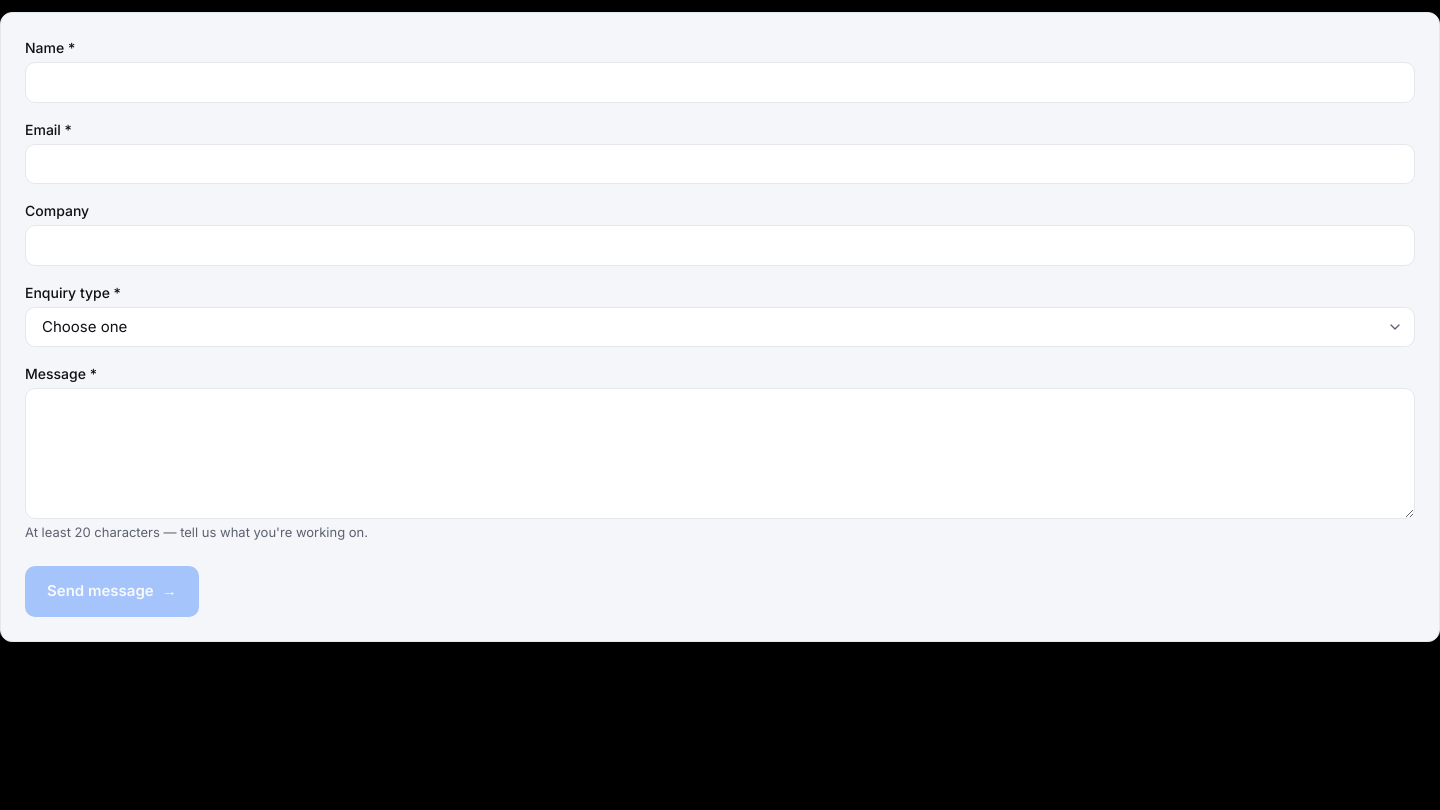
ContactForm › shows success state after submit
Type "Jane Doe" into the field labelled "Name *".
click(720, 82); type("Jane Doe")  # box [25,62,1415,102]
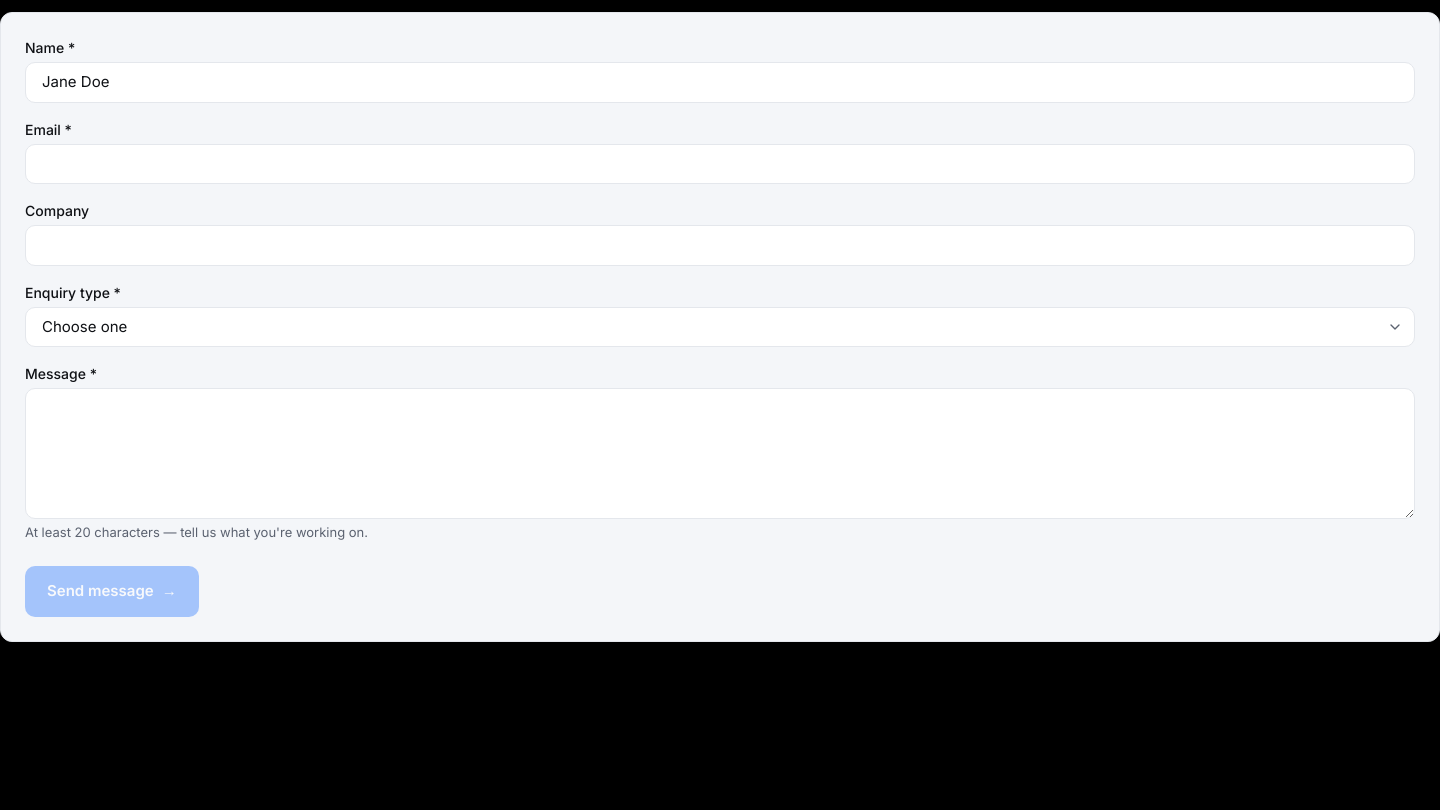
Type "jane@example.com" into the field labelled "Email *".
click(720, 164); type("jane@example.com")  # box [25,144,1415,184]
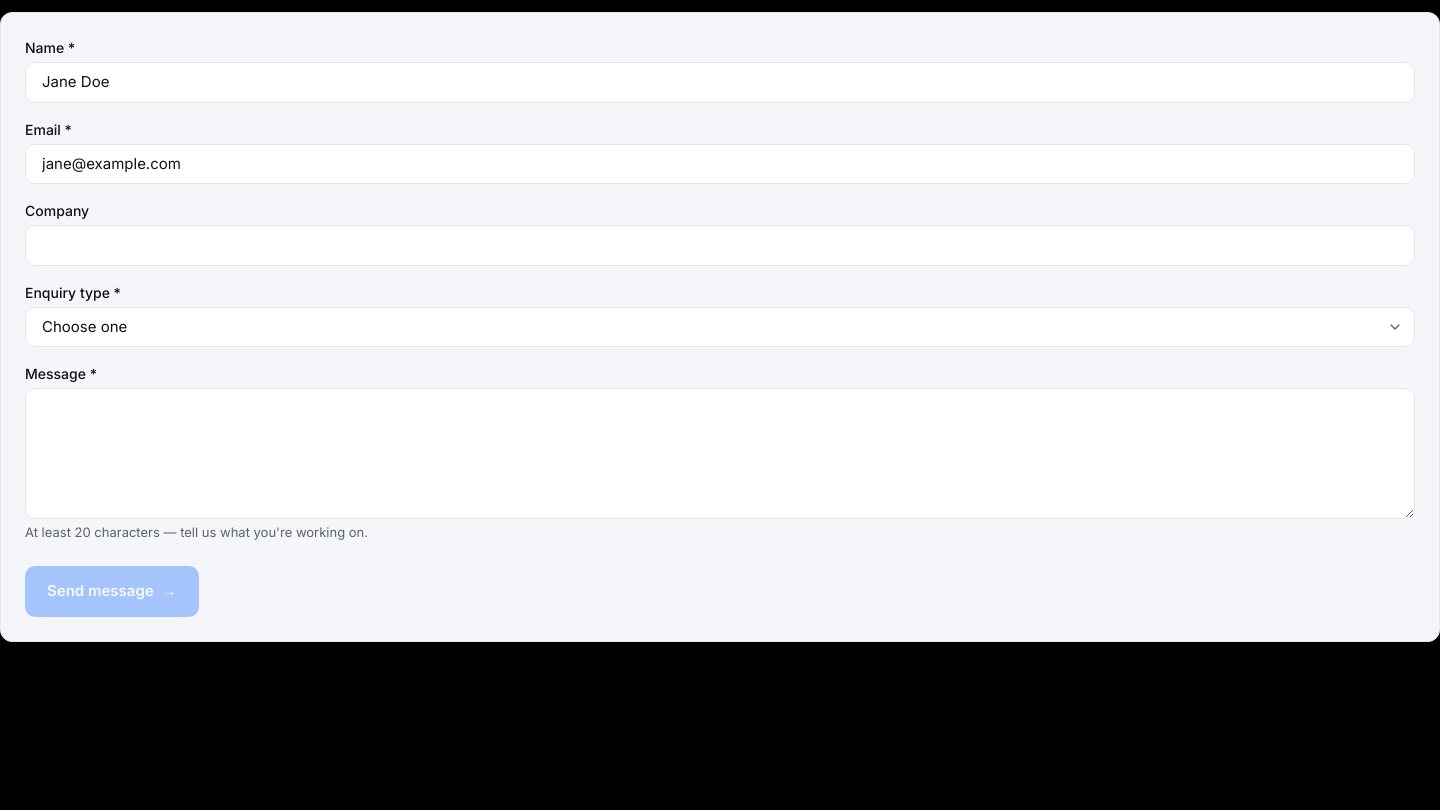
Select "Workshop inquiry" in the dropdown labelled "Enquiry type *" at (720, 327), box [25,306,1415,347]
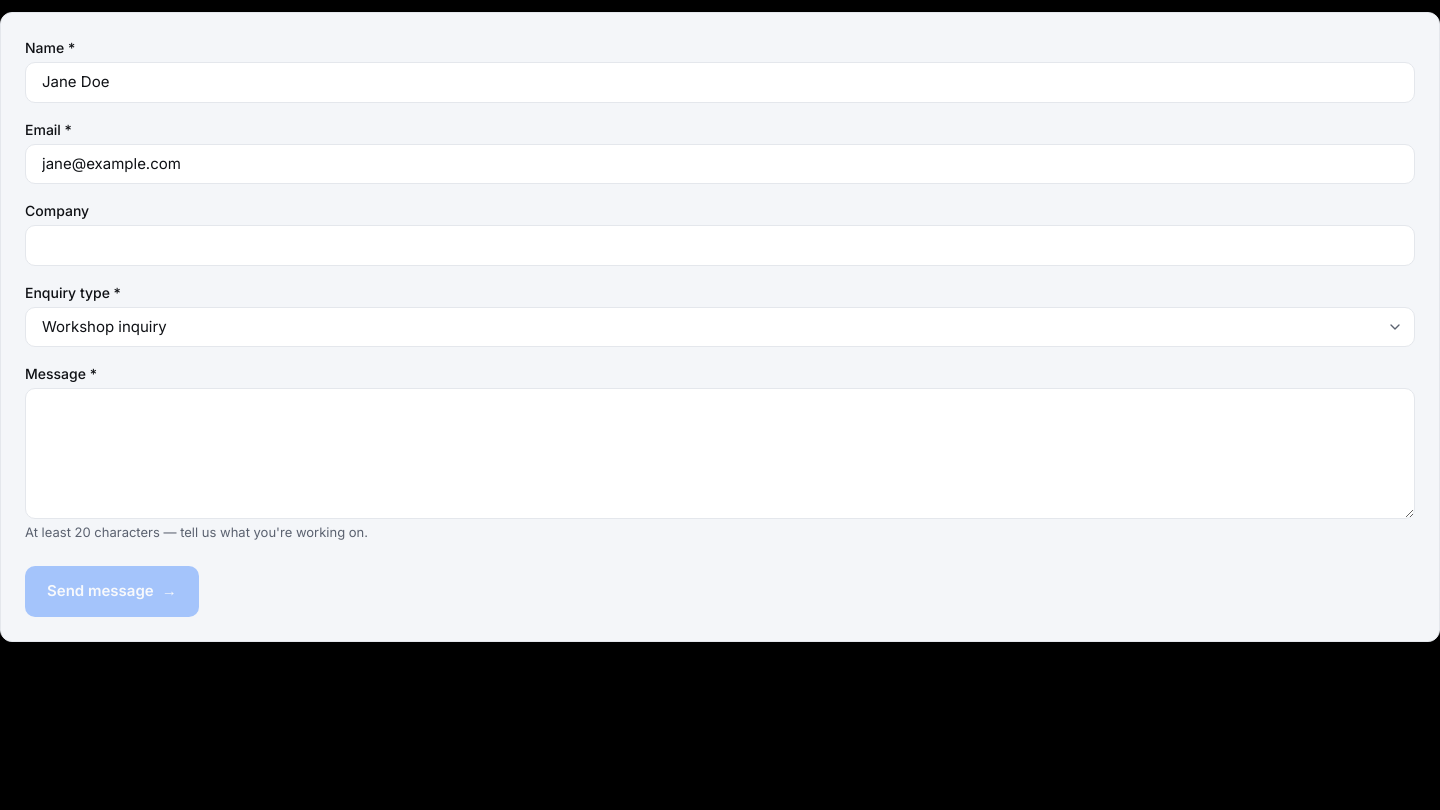
Type "This is at least twenty characters of message content." into the text box labelled "Message *".
click(720, 453); type("This is at least twenty characters of message content.")  # box [25,388,1415,518]
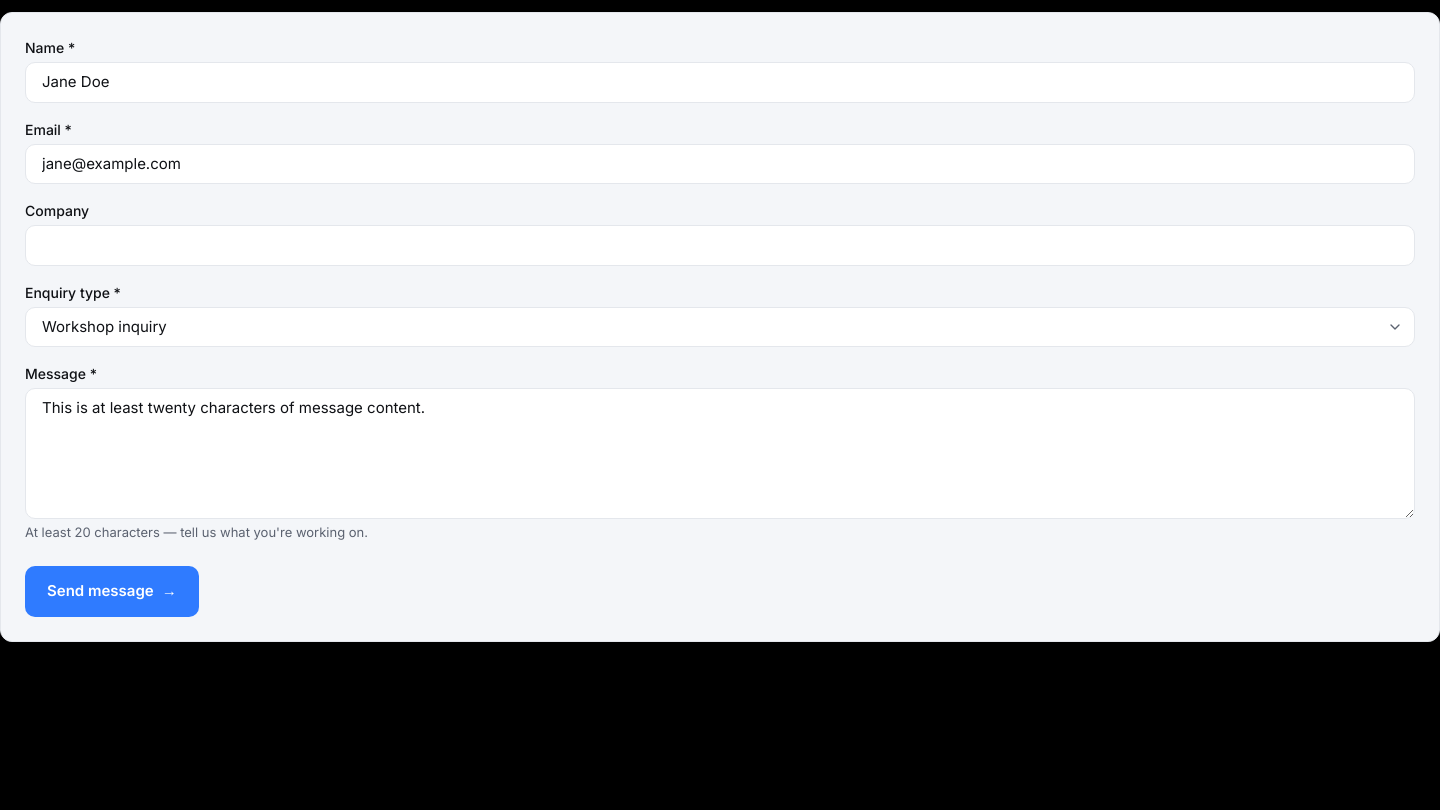
Click the button "Send message →".
click(112, 591)  # box [25,566,199,616]
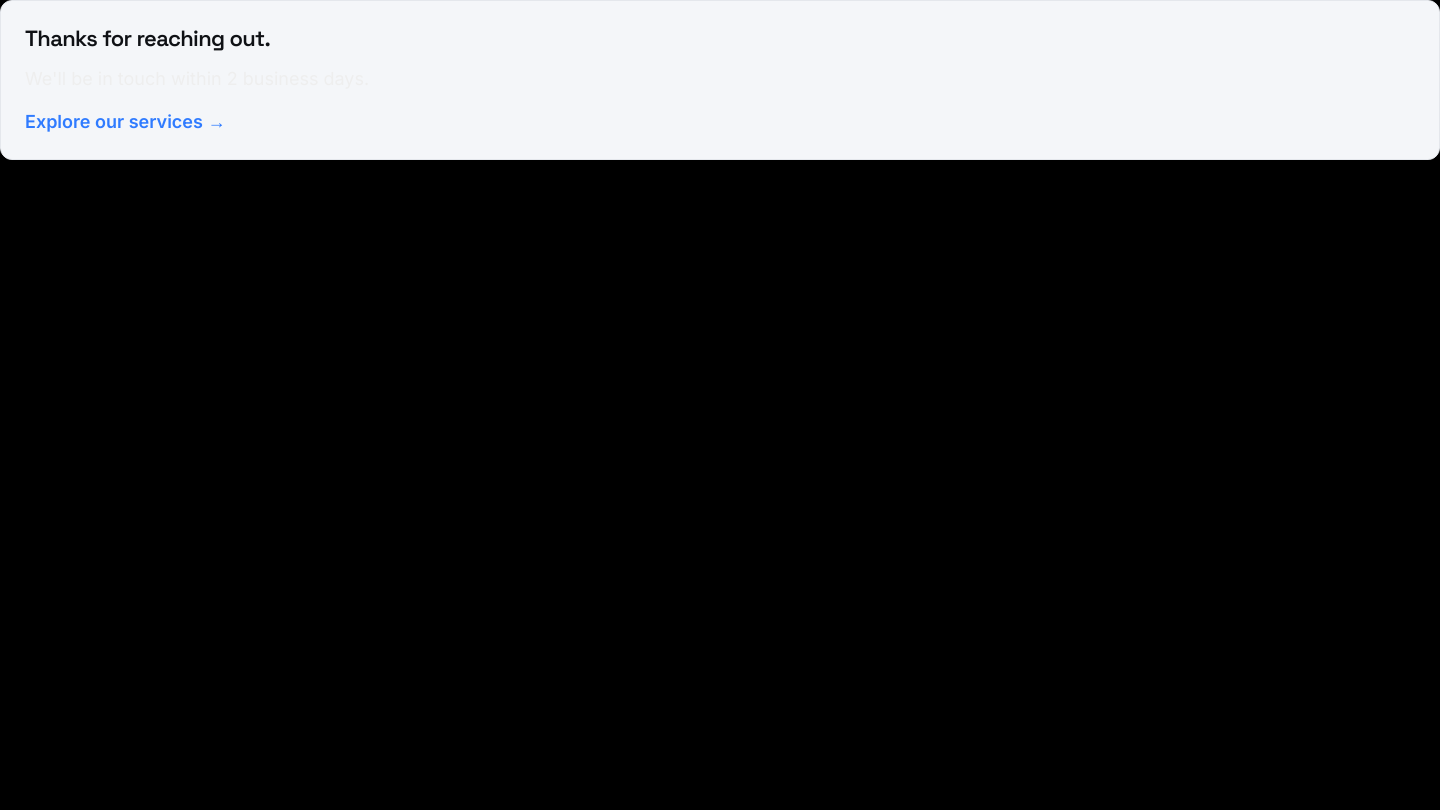
Now the heading "Thanks for reaching out." is shown, box [25,24,270,52]
